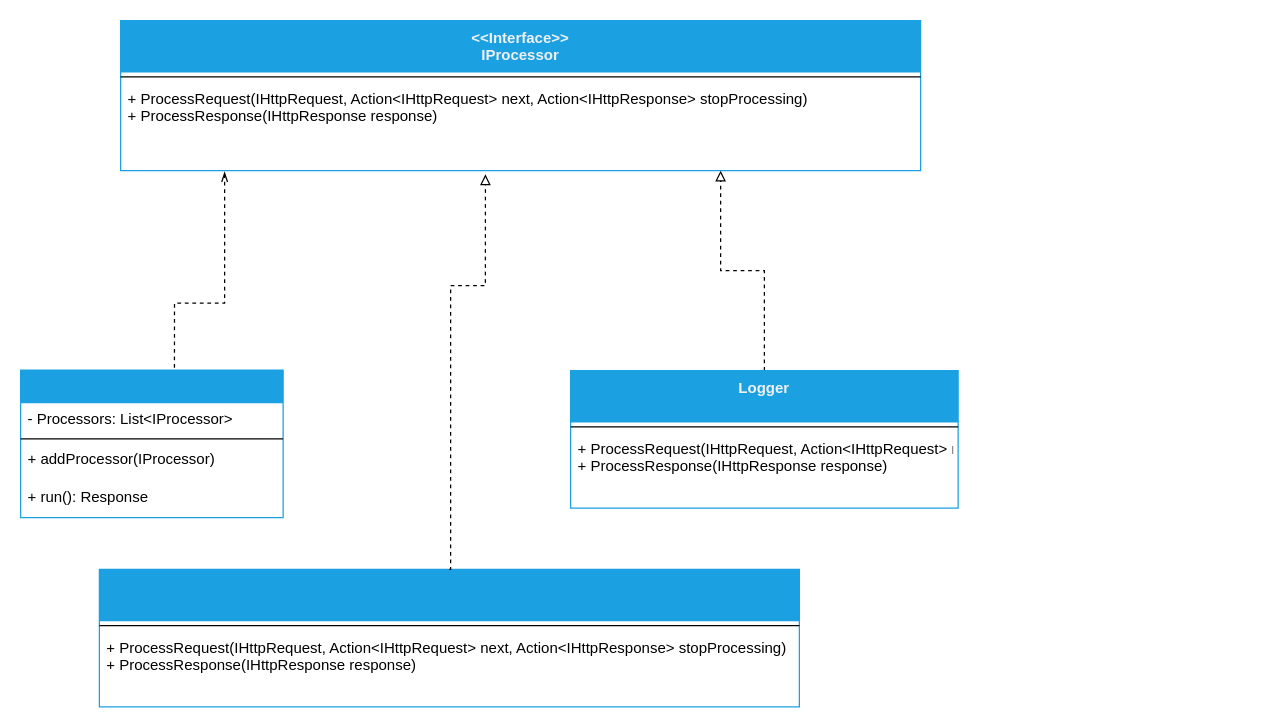
Image size: 1278x728. Some labels were removed from this diagram. The box of each missing label's shape, as (x1, y1, x2, y2) in pixels:
Pipeline: (19, 369, 283, 518)
StandardRequestProcessor: (98, 568, 799, 707)
